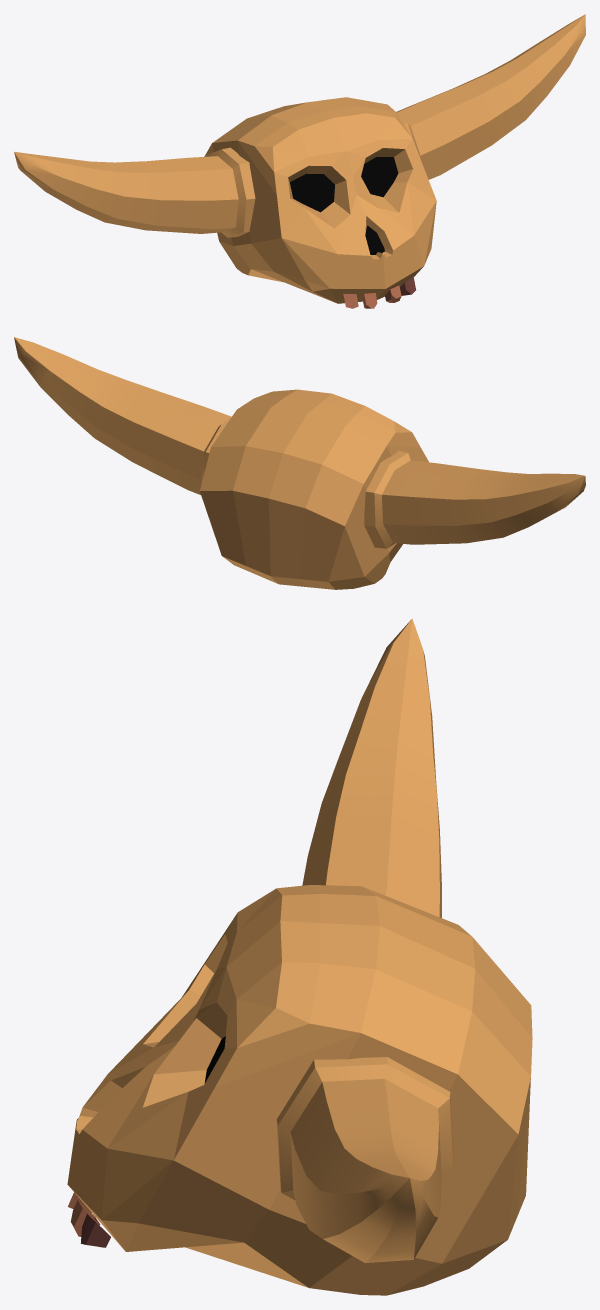
File: Skull 04.fbx
The picture shows the model from 3 angles, top to bottom: view 1: azimuth 30°, elevation 25°; view 2: azimuth 150°, elevation 25°; view 3: azimuth 270°, elevation 25°; orthographic projection. The views are drawn at different scales.
Parts seen in each view (by area): view 1: Skull 04; view 2: Skull 04; view 3: Skull 04.
Part boxes in pixels (<box>): Skull 04: <box>14,14,585,308</box>; Skull 04: <box>14,337,585,589</box>; Skull 04: <box>67,618,532,1295</box>.
Bounding box in the file's own units: 110 × 30.73 × 38.7.
